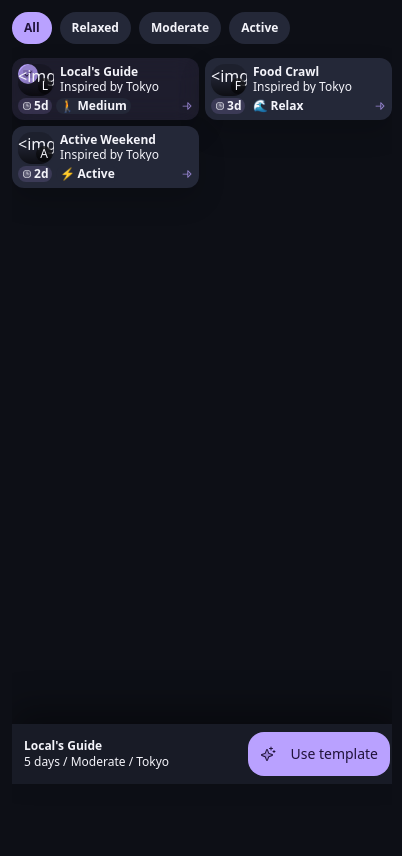
it: TemplatePicker › updates the one-tap mobile CTA when a different template is selected
Check: the element with test id "template-mobile-cta" shows "Local's Guide", box [24,737,102,754]
Step 1. Click the button with aria-label "Select Active Weekend template" → [106, 157], box [12,126,199,188]
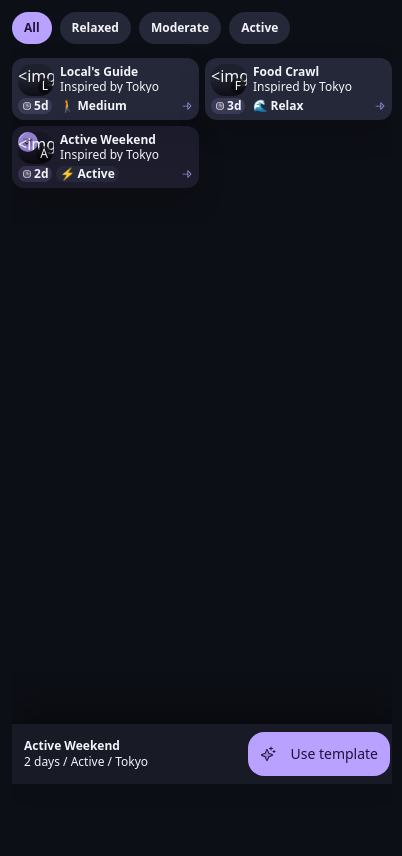
Check: the element with test id "template-mobile-cta" shows "Active Weekend", box [24,737,120,754]
